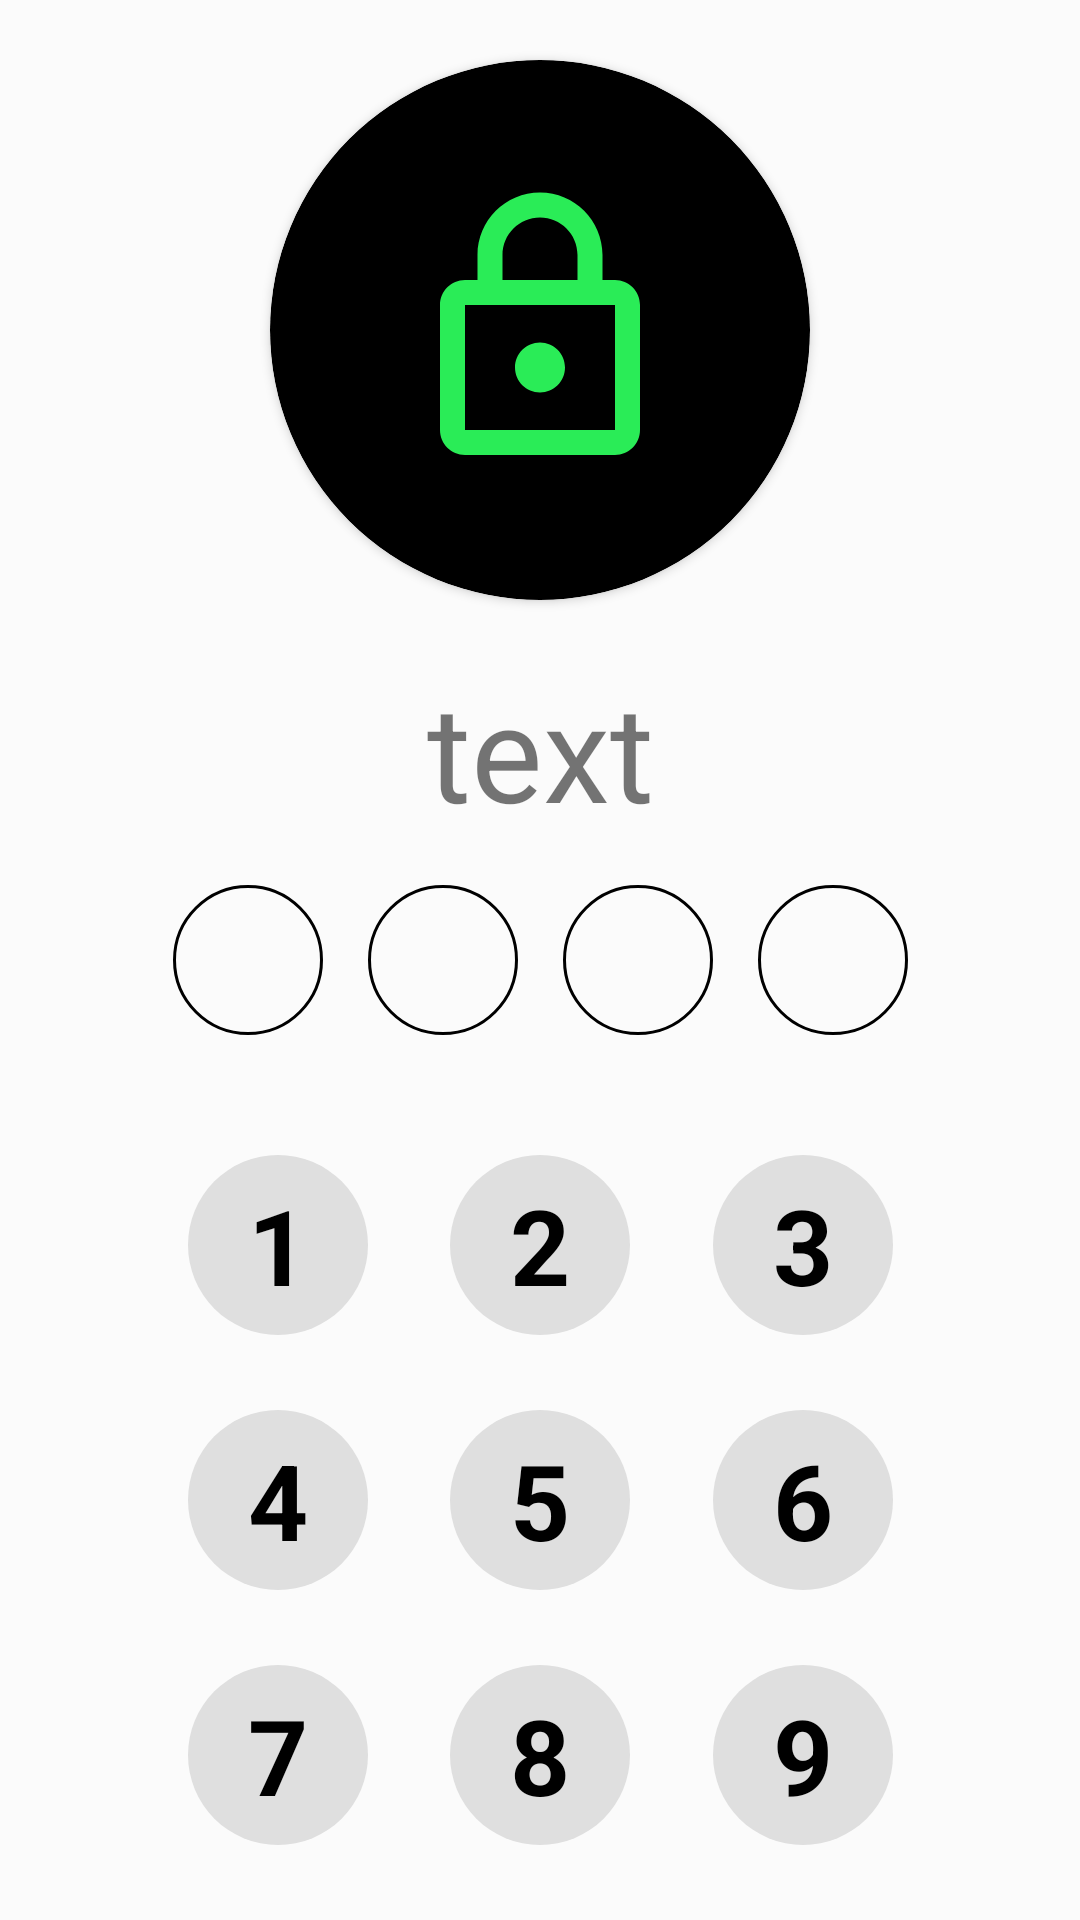

Icon click points for this 1080px×1920px phone screenshot, format (x=x, y=y):
Lock: (x=540, y=323)
